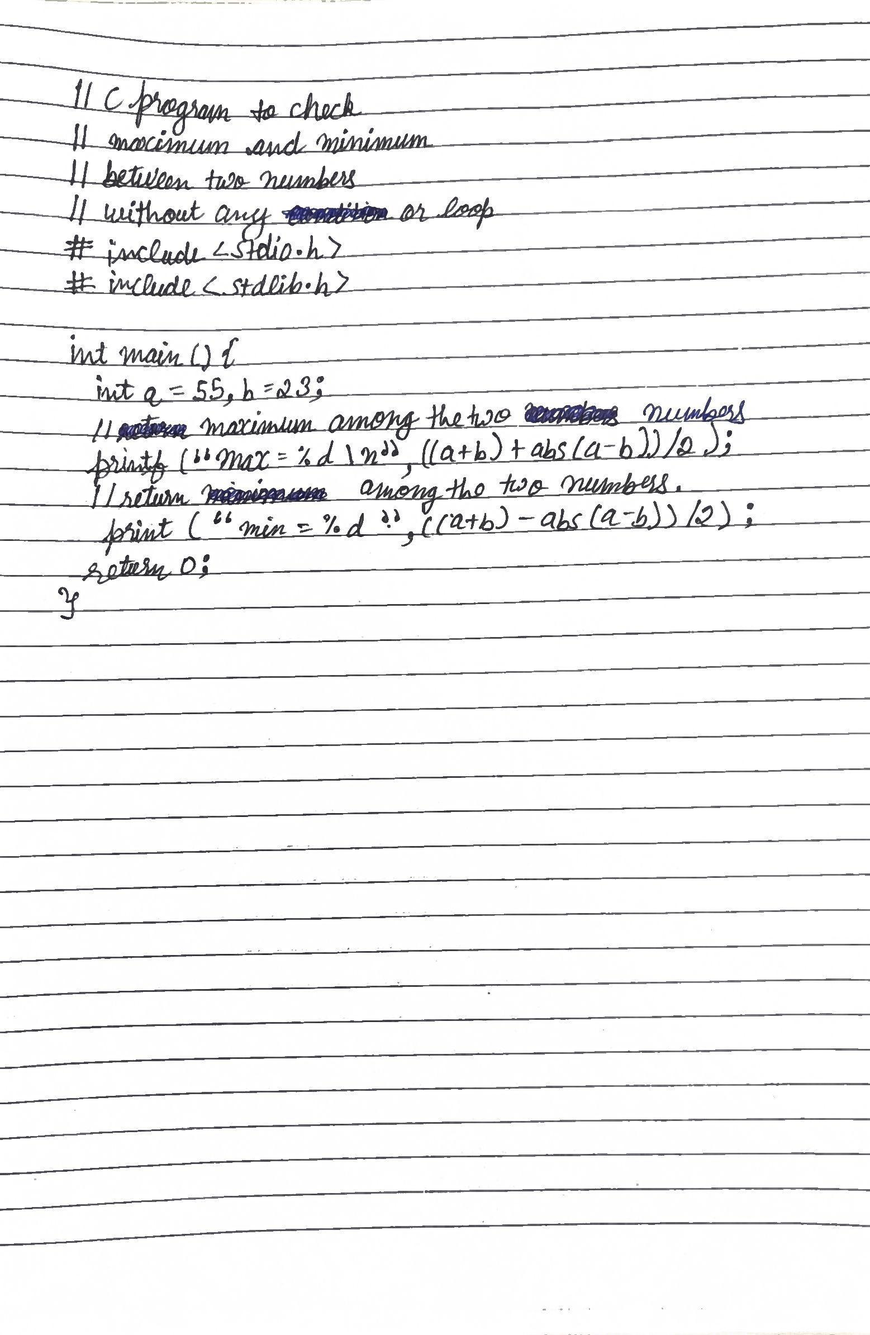cuttings: (200, 478, 329, 506), (280, 200, 395, 227), (523, 399, 620, 427), (114, 414, 193, 443)
